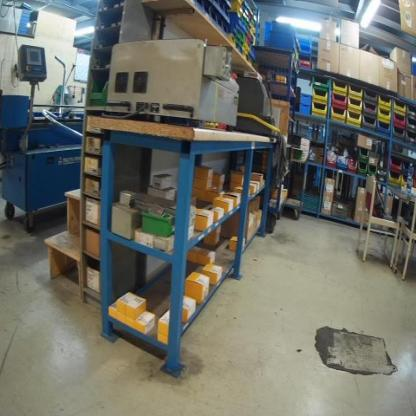small_load_carrier: (300, 94, 313, 108), (301, 106, 312, 114)
